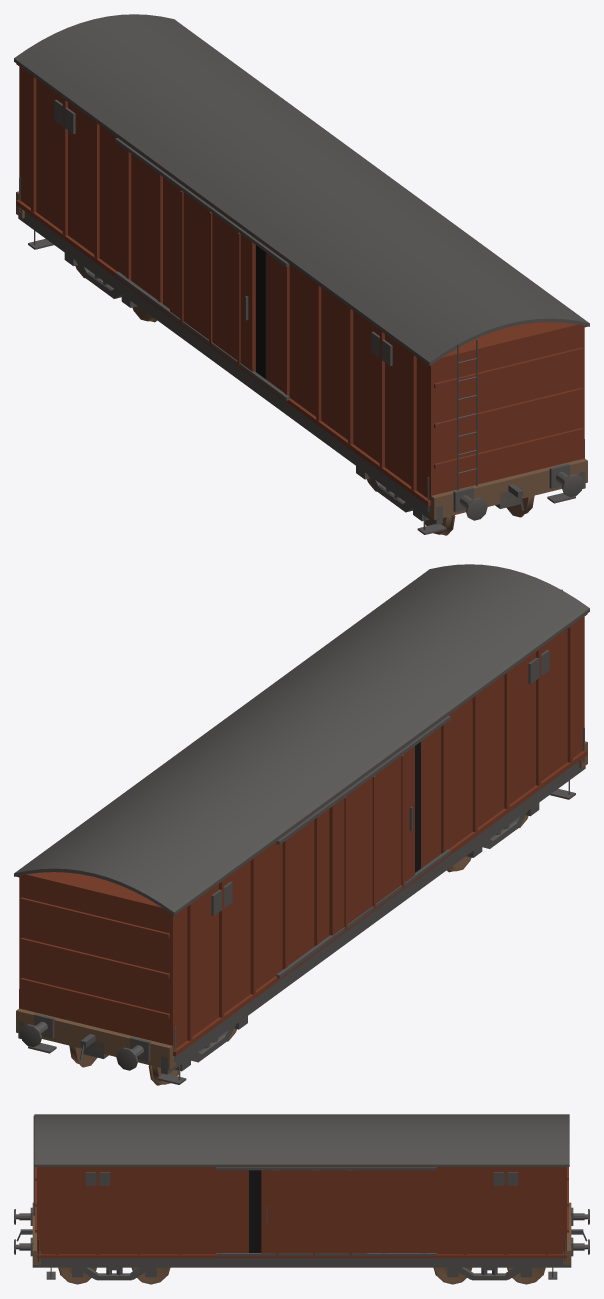
Rendered from Scenery_RailWagon.fbx.
3 renders of one model, top to bottom at view 1: azimuth 30°, elevation 25°; view 2: azimuth 150°, elevation 25°; view 3: azimuth 270°, elevation 25°, orthographic. The views are drawn at different scales.
Parts seen in each view (by area): view 1: Scenery_RailWagon_Mesh; view 2: Scenery_RailWagon_Mesh; view 3: Scenery_RailWagon_Mesh.
Boxes of the visible parts, x1=… form: Scenery_RailWagon_Mesh: x1=14, y1=14, x2=589, y2=535; Scenery_RailWagon_Mesh: x1=14, y1=564, x2=589, y2=1085; Scenery_RailWagon_Mesh: x1=14, y1=1114, x2=589, y2=1284.
Size of the model in its own units: 3.04 by 3.93 by 14.12.
